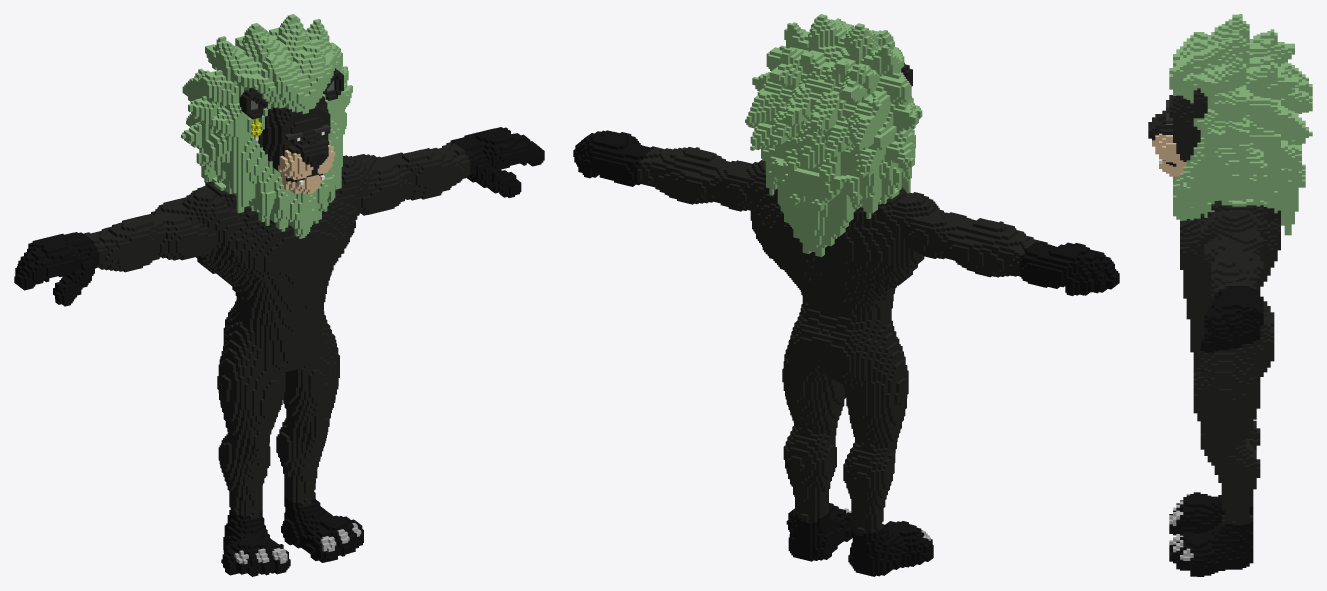
Rendered from 729-CyTWJfnk.glb.
The picture shows the model from 3 angles, left to right: view 1: azimuth 30°, elevation 25°; view 2: azimuth 150°, elevation 25°; view 3: azimuth 270°, elevation 25°; orthographic projection. The views are drawn at different scales.
Parts seen in each view (by area): view 1: standard; view 2: standard; view 3: standard.
Boxes of the visible parts, box(x1,y1,x2,y2) form: standard: box(14, 14, 544, 576); standard: box(573, 14, 1119, 576); standard: box(1148, 14, 1312, 576).
Bounding box in the file's own units: 17.2 × 16.5 × 4.7.
5 materials, 5 textured.
